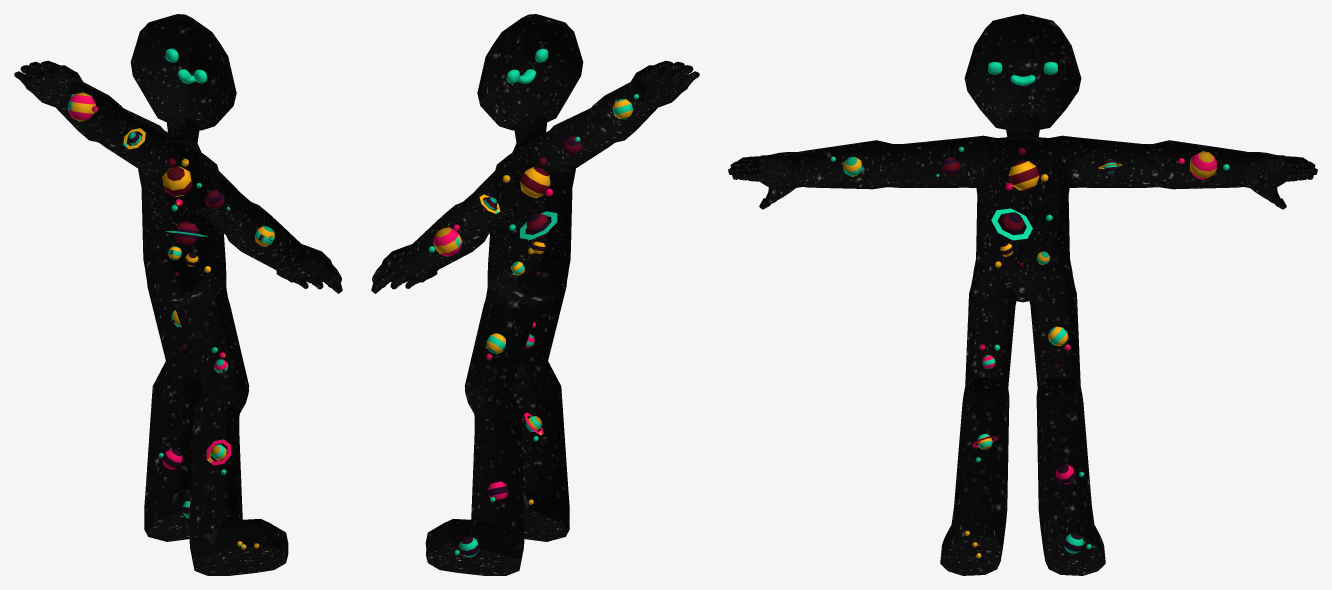
File: Cosmic Person.glb
The picture shows the model from 3 angles, left to right: view 1: azimuth 30°, elevation 25°; view 2: azimuth 150°, elevation 25°; view 3: azimuth 270°, elevation 25°; orthographic projection. The views are drawn at different scales.
Visible parts, largest first — view 1: _100Avatars_129_CosmicPerson; view 2: _100Avatars_129_CosmicPerson; view 3: _100Avatars_129_CosmicPerson.
Boxes of the visible parts, x1,y1,x2,y2 form: _100Avatars_129_CosmicPerson: [14, 14, 342, 575]; _100Avatars_129_CosmicPerson: [371, 14, 699, 575]; _100Avatars_129_CosmicPerson: [728, 14, 1317, 575].
Bounding box in the file's own units: 1.09 × 4.78 × 4.89.
Materials: 1 (1 with a texture image).
